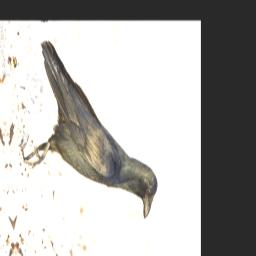Crow: (13, 31, 162, 229)
